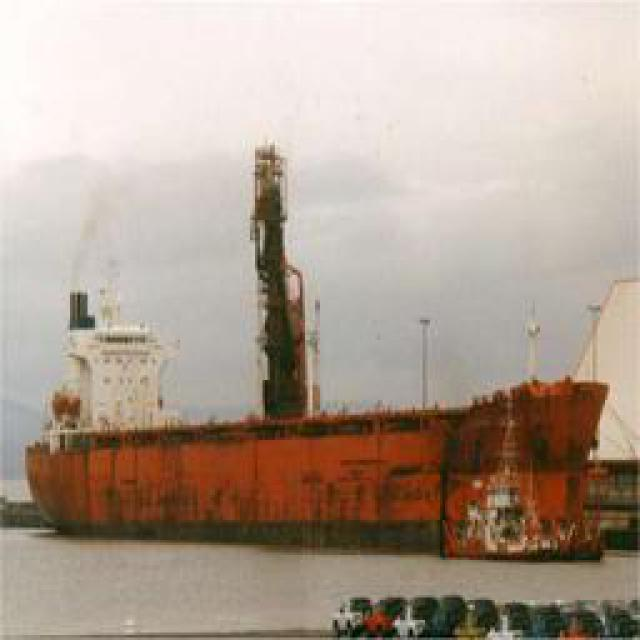Ship: (25, 142, 616, 564)
